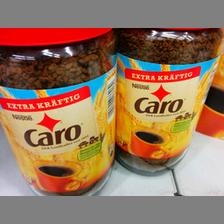Kaffee: (0, 26, 116, 194), (113, 28, 223, 176)
